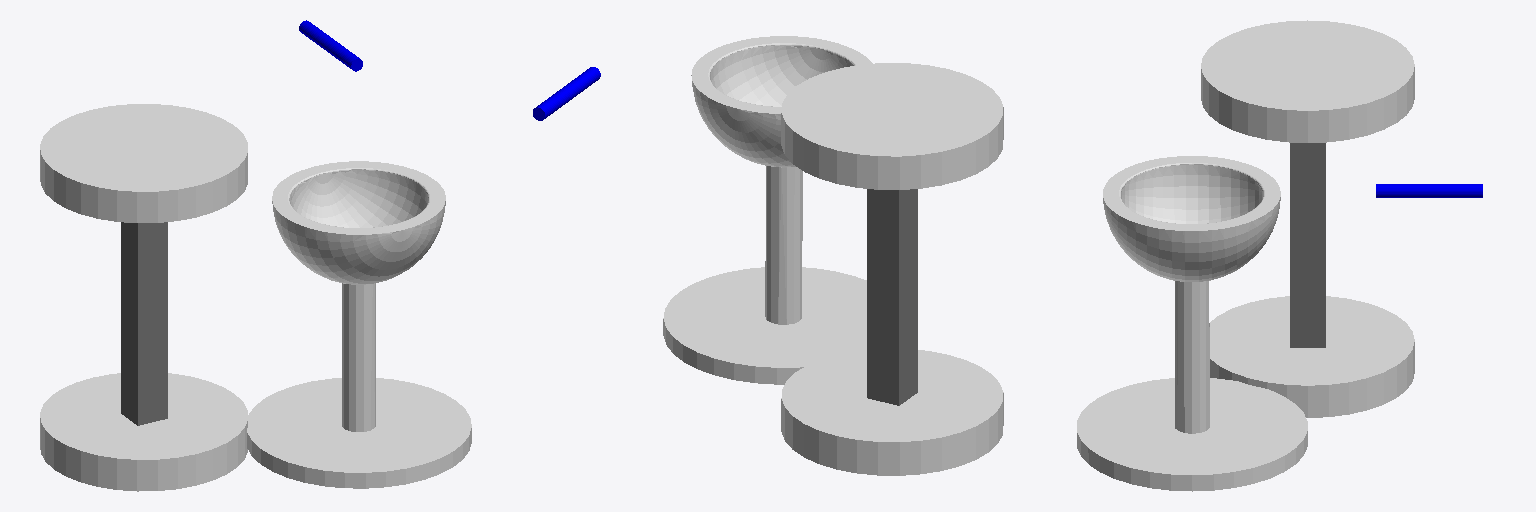
robot.urdf — ur5:
<?xml version="1.0"?>
<robot name="ur5" xmlns:controller="http://playerstage.sourceforge.net/gazebo/xmlschema/#controller" xmlns:interface="http://playerstage.sourceforge.net/gazebo/xmlschema/#interface" xmlns:sensor="http://playerstage.sourceforge.net/gazebo/xmlschema/#sensor" xmlns:xacro="http://ros.org/wiki/xacro">
  <material name="UR/Blue">
    <color rgba="0.0 0.0 0.8 1.0"/>
  </material>
  <material name="UR/Grey">
    <color rgba="0.7 0.7 0.7 1.0"/>
  </material>
  <!-- arm -->
    <!-- World link to fix basin -->
  <link name="world"/>

  <link name="base_link">
    <visual>
      <geometry>
        <mesh filename="package://ur5_description/meshes/ur5/visual/Base.dae"/>
      </geometry>
      <origin rpy="0.0 0.0 2.3561944875" xyz="0.0 0.0 0.003"/>
    </visual>

    <collision>
      <geometry>
        <mesh filename="package://ur5_description/meshes/ur5/collision/Base.dae"/>
      </geometry>

    </collision>
  <inertial>
    <mass value="4.0"/>
    <inertia ixx="1.0" ixy="0.0" ixz="0.0" iyy="1.0" iyz="0.0" izz="1.0"/>
  </inertial>
  </link>
  
<joint name="basin_to_ur5" type="fixed">
  <parent link="basin_link"/>
  <child link="base_link"/>
  <origin xyz="0 0 0.1" rpy="0 0 0"/> <!-- adjust Z height as needed -->
</joint>

  <joint name="shoulder_pan_joint" type="revolute">
    <parent link="base_link"/>
    <child link="shoulder_link"/>
    <origin rpy="0.0 0.0 0.0" xyz="0.0 0.0 0.089159"/>
    <axis xyz="0 0 1"/>
    <limit effort="10.0" lower="-3.14159265" upper="3.14159265" velocity="3.14159265"/>
    <dynamics damping="10" friction="0.1"/>
  </joint>
  <link name="shoulder_link">
    <visual>
      <geometry>
        <mesh filename="package://ur5_description/meshes/ur5/visual/Shoulder.dae"/>
      </geometry>
    </visual>
    <collision>
      <geometry>
        <mesh filename="package://ur5_description/meshes/ur5/collision/Shoulder.dae"/>
      </geometry>
      <!-- <origin rpy="0.0 0.0 0.0" xyz="0.0 0.0 -0.009159"/> -->
    </collision>
    <inertial>
      <mass value="3.7"/>
      <inertia ixx="1.0" ixy="0.0" ixz="0.0" iyy="1.0" iyz="0.0" izz="1.0"/>
      <origin rpy="0.0 0.0 0.0" xyz="0.0 0.00193 -0.02561"/>
    </inertial>
  </link>
  <joint name="shoulder_lift_joint" type="revolute">
    <parent link="shoulder_link"/>
    <child link="upper_arm_link"/>
    <origin rpy="0.0 1.570796325 0.0" xyz="0.0 0.13585 0.0"/>
    <axis xyz="0 1 0"/>
    <limit effort="10.0" lower="-3.14159265" upper="3.14159265" velocity="3.14159265"/>
    <dynamics damping="10" friction="0.1"/>
  </joint>
  <link name="upper_arm_link">
    <visual>
      <geometry>
        <mesh filename="package://ur5_description/meshes/ur5/visual/UpperArm.dae"/>
      </geometry>
      <origin rpy="0.0 0.0 0.0" xyz="0.0 0.0 0.0"/>
    </visual>
    <collision>
      <geometry>
        <mesh filename="package://ur5_description/meshes/ur5/collision/UpperArm.dae"/>
      </geometry>
      <!--       <origin rpy="0.0 0.0 0.0" xyz="0.0 0.0 0.2125"/> -->
    </collision>
    <inertial>
      <mass value="8.393"/>
      <inertia ixx="1.0" ixy="0.0" ixz="0.0" iyy="1.0" iyz="0.0" izz="1.0"/>
      <origin rpy="0.0 0.0 0.0" xyz="0.0 -0.024201 0.2125"/>
    </inertial>
  </link>
  <joint name="elbow_joint" type="revolute">
    <parent link="upper_arm_link"/>
    <child link="forearm_link"/>
    <origin rpy="0.0 0.0 0.0" xyz="0.0 -0.1197 0.425"/>
    <axis xyz="0 1 0"/>
    <limit effort="10.0" lower="-3.14159265" upper="3.14159265" velocity="3.14159265"/>
    <dynamics damping="10" friction="0.1"/>
  </joint>
  <link name="forearm_link">
    <visual>
      <geometry>
        <mesh filename="package://ur5_description/meshes/ur5/visual/Forearm.dae"/>
      </geometry>
    </visual>
    <collision>
      <geometry>
        <mesh filename="package://ur5_description/meshes/ur5/collision/Forearm.dae"/>
      </geometry>
      <!--       <origin rpy="0.0 0.0 0.0" xyz="0.0 0.0 0.196125"/> -->
    </collision>
    <inertial>
      <mass value="2.275"/>
      <origin rpy="0.0 0.0 0.0" xyz="0.0 0.0265 0.11993"/>
      <inertia ixx="1.0" ixy="0.0" ixz="0.0" iyy="1.0" iyz="0.0" izz="1.0"/>
    </inertial>
  </link>
  <joint name="wrist_1_joint" type="revolute">
    <parent link="forearm_link"/>
    <child link="wrist_1_link"/>
    <origin rpy="0.0 1.570796325 0.0" xyz="0.0 0.0 0.39225"/>
    <axis xyz="0 1 0"/>
    <limit effort="10.0" lower="-3.14159265" upper="0.7853981625" velocity="3.14159265"/>
    <dynamics damping="10" friction="0.1"/>
  </joint>
  <link name="wrist_1_link">
    <visual>
      <geometry>
        <mesh filename="package://ur5_description/meshes/ur5/visual/Wrist1.dae"/>
      </geometry>
      <origin rpy="0.0 1.570796325 0.0" xyz="0.0 0.093 0.0"/>
    </visual>
    <collision>
      <geometry>
        <mesh filename="package://ur5_description/meshes/ur5/collision/Wrist1.dae"/>
      </geometry>
      <origin rpy="0.0 1.570796325 0.0" xyz="0.0 0.093 0.0"/>
    </collision>
    <inertial>
      <mass value="1.219"/>
      <origin rpy="0.0 0.0 0.0" xyz="0.0 0.110949 0.01634"/>
      <inertia ixx="1.0" ixy="0.0" ixz="0.0" iyy="1.0" iyz="0.0" izz="1.0"/>
    </inertial>
  </link>
  <joint name="wrist_2_joint" type="revolute">
    <parent link="wrist_1_link"/>
    <child link="wrist_2_link"/>
    <origin rpy="0.0 0.0 0.0" xyz="0.0 0.093 0.0"/>
    <axis xyz="0 0 1"/>
    <limit effort="10.0" lower="-3.14159265" upper="3.14159265" velocity="3.14159265"/>
    <dynamics damping="10" friction="0.1"/>
  </joint>
  <link name="wrist_2_link">
    <visual>
      <geometry>
        <mesh filename="package://ur5_description/meshes/ur5/visual/Wrist2.dae"/>
      </geometry>
      <origin rpy="0.0 0.0 0.0" xyz="0.0 0.0 0.09465"/>
    </visual>
    <collision>
      <geometry>
        <mesh filename="package://ur5_description/meshes/ur5/collision/Wrist2.dae"/>
      </geometry>
      <origin rpy="0.0 0.0 0.0" xyz="0.0 0.0 0.09465"/>
    </collision>
    <inertial>
      <mass value="1.219"/>
      <origin rpy="0.0 0.0 0.0" xyz="0.0 0.0018 0.11099"/>
      <inertia ixx="1.0" ixy="0.0" ixz="0.0" iyy="1.0" iyz="0.0" izz="1.0"/>
    </inertial>
  </link>
  <joint name="wrist_3_joint" type="revolute">
    <parent link="wrist_2_link"/>
    <child link="wrist_3_link"/>
    <origin rpy="0.0 0.0 0.0" xyz="0.0 0.0 0.09465"/>
    <axis xyz="0 1 0"/>
    <limit effort="10.0" lower="-3.14159265" upper="3.14159265" velocity="3.14159265"/>
    <dynamics damping="10" friction="0.1"/>
  </joint>
  <link name="wrist_3_link">
    <visual>
      <geometry>
        <mesh filename="package://ur5_description/meshes/ur5/visual/Wrist3.dae"/>
      </geometry>
    </visual>
    <collision>
      <geometry>
        <mesh filename="package://ur5_description/meshes/ur5/collision/Wrist3.dae"/>
      </geometry>
    </collision>
    <inertial>
      <mass value="0.1879"/>
      <origin rpy="0.0 0.0 0.0" xyz="0.0 0.001159 0.0"/>
      <inertia ixx="1.0" ixy="0.0" ixz="0.0" iyy="1.0" iyz="0.0" izz="1.0"/>
    </inertial>
  </link>
  <joint name="ee_fixed_joint" type="fixed">
    <parent link="wrist_3_link"/>
    <child link="ee_link"/>
    <origin rpy="0.0 0.0 1.570796325" xyz="0.0 0.0823 0.0"/>
  </joint>
  <link name="ee_link"/>

  <link name="brush_link">
    <visual>
      <geometry>
        <cylinder length="0.3" radius="0.02"/>
      </geometry>
      <origin xyz="0 0 0.15" rpy="0 0 0"/> <!-- move +0.15 along Z -->
      <material name="blue">
        <color rgba="0 0 1 1"/>
      </material>
    </visual>
    <collision>
      <geometry>
        <cylinder length="0.1" radius="0.02"/>
      </geometry>
    </collision>
    <inertial>
      <mass value="0.1"/>
      <inertia ixx="0.0001" ixy="0" ixz="0" iyy="0.0001" iyz="0" izz="0.0001"/>
      <origin xyz="0 0 0.05" rpy="0 0 0"/>
    </inertial>
  </link>

    <!-- Fixed joint to attach to robot's end-effector -->
  <joint name="brush_joint" type="fixed">
    <parent link="ee_link"/> <!-- Replace ee_link with your robot's end-effector link -->
    <child link="brush_link"/>
    <origin xyz="0 0 0.0" rpy="0 1.57 0"/>
  </joint>

<!-- Bottom cylinder (basin_link2) -->
<link name="basin_link2">
  <visual>
    <geometry>
      <cylinder radius="0.3" length="0.1"/>
    </geometry>
    <origin xyz="0 0 0.05" rpy="0 0 0"/>
    <material name="White">
      <color rgba="0.9 0.9 0.9 1.0"/>
    </material>
  </visual>
  <collision>
    <geometry>
      <cylinder radius="0.3" length="0.1"/>
    </geometry>
    <origin xyz="0 0 0.05" rpy="0 0 0"/>
  </collision>
  <inertial>
    <mass value="5.0"/>
    <inertia ixx="1" iyy="1" izz="1" ixy="0" ixz="0" iyz="0"/>
  </inertial>
</link>

<!-- Stand -->
<link name="stand_link">
  <visual>
    <geometry>
      <box size="0.1 0.1 0.8"/>
    </geometry>
    <origin xyz="0 0 0.4" rpy="0 0 0"/>
    <material name="Grey">
      <color rgba="0.5 0.5 0.5 1.0"/>
    </material>
  </visual>
  <collision>
    <geometry>
      <box size="0.1 0.1 0.8"/>
    </geometry>
    <origin xyz="0 0 0.4" rpy="0 0 0"/>
  </collision>
  <inertial>
    <mass value="3.0"/>
    <inertia ixx="1" iyy="1" izz="1" ixy="0" ixz="0" iyz="0"/>
  </inertial>
</link>

<!-- Top cylinder (basin_link) -->
<link name="basin_link">
  <visual>
    <geometry>
      <cylinder radius="0.3" length="0.1"/>
    </geometry>
    <origin xyz="0 0 0.05" rpy="0 0 0"/>
    <material name="White">
      <color rgba="0.9 0.9 0.9 1.0"/>
    </material>
  </visual>
  <collision>
    <geometry>
      <cylinder radius="0.3" length="0.1"/>
    </geometry>
    <origin xyz="0 0 0.05" rpy="0 0 0"/>
  </collision>
  <inertial>
    <mass value="5.0"/>
    <inertia ixx="1" iyy="1" izz="1" ixy="0" ixz="0" iyz="0"/>
  </inertial>
</link>


<gazebo reference="base_link">
    <material>Gazebo/Orange</material>
</gazebo>

<gazebo reference="shoulder_link">
    <material>Gazebo/Orange</material>
</gazebo>

<gazebo reference="upper_arm_link">
    <material>Gazebo/Orange</material>
</gazebo>

<gazebo reference="forearm_link">
    <material>Gazebo/Orange</material>
</gazebo>

<gazebo reference="wrist_1_link">
    <material>Gazebo/Red</material>
</gazebo>

<gazebo reference="wrist_2_link">
    <material>Gazebo/Orange</material>
</gazebo>

<gazebo reference="wrist_3_link">
    <material>Gazebo/Orange</material>
</gazebo>

<gazebo reference="basin_link2">
    <material>Gazebo/Black</material>
</gazebo>
<gazebo reference="stand_link">
    <material>Gazebo/Black</material>
</gazebo>
<gazebo reference="basin_link">
    <material>Gazebo/Black</material>
</gazebo>
<gazebo reference="washbasin_link">
    <material>Gazebo/Red</material>
</gazebo>
<gazebo reference="brush_link">
    <material>Gazebo/Blue</material>
</gazebo>

<!-- Joints -->

<!-- World → bottom cylinder -->
<joint name="world_to_basin2" type="fixed">
  <parent link="world"/>
  <child link="basin_link2"/>
  <origin xyz="0 0 0.05" rpy="0 0 0"/>
</joint>

<!-- Bottom cylinder → stand -->
<joint name="basin2_to_stand" type="fixed">
  <parent link="basin_link2"/>
  <child link="stand_link"/>
  <origin xyz="0 0 0.05" rpy="0 0 0"/>
</joint>

<!-- Stand → top cylinder -->
<joint name="stand_to_basin" type="fixed">
  <parent link="stand_link"/>
  <child link="basin_link"/>
  <origin xyz="0 0 0.8" rpy="0 0 0"/> <!-- top cylinder sits on stand -->
</joint>


<link name="washbasin_link">
  <visual>
    <geometry>
      <mesh filename="package://ur5_description/meshes/ur5/visual/basin.STL" scale="0.001 0.001 0.001"/>
    </geometry>
    <origin xyz="0.2 0 0.8" rpy="-3.14 0 0"/> <!-- half height above ground -->
    <material name="White">
      <color rgba="0.9 0.9 0.9 1.0"/>
    </material>
  </visual>
  <collision>
    <geometry>
      <cylinder radius="0.3" length="0.1"/> <!-- simple collision -->
    </geometry>
    <origin xyz="0 0 0.05" rpy="0 0 0"/>
  </collision>
  <inertial>
    <mass value="5.0"/>
    <inertia ixx="0.1" iyy="0.1" izz="0.1" ixy="0" ixz="0" iyz="0"/>
    <origin xyz="0 0 0.05" rpy="0 0 0"/>
  </inertial>
</link>

<joint name="world_to_washbasin" type="fixed">
  <parent link="world"/>
  <child link="washbasin_link"/>
  <origin xyz="0 0 0.05" rpy="0 0 0"/>
</joint>

<!--  Addign Controllers -->

<ros2_control name="GazeboSystem" type="system">
  <hardware>
    <plugin>gazebo_ros2_control/GazeboSystem</plugin>
  </hardware>

  <!-- Shoulder Pan -->
  <joint name="shoulder_pan_joint">
      <param name="initial_position">-0.323</param>
      <command_interface name="effort"/>
      <command_interface name="velocity"/>
      <command_interface name="position"/>
      <state_interface name="position"/>
      <state_interface name="velocity"/>
      <state_interface name="effort"/>
  </joint>
  </ros2_control>

<ros2_control name="GazeboSystem" type="system">
  <hardware>
    <plugin>gazebo_ros2_control/GazeboSystem</plugin>
  </hardware>
  <!-- Shoulder Lift -->
  <joint name="shoulder_lift_joint">
      <param name="initial_position">-0.425</param>
      <command_interface name="effort"/>
      <command_interface name="velocity"/>
      <command_interface name="position"/>
      <state_interface name="position"/>
      <state_interface name="velocity"/>
      <state_interface name="effort"/>
  </joint>
</ros2_control>
<ros2_control name="GazeboSystem" type="system">
  <hardware>
    <plugin>gazebo_ros2_control/GazeboSystem</plugin>
  </hardware>
  <!-- Elbow -->
  <joint name="elbow_joint">
      <param name="initial_position">0.357</param>
      <command_interface name="effort"/>
      <command_interface name="velocity"/>
      <command_interface name="position"/>
      <state_interface name="position"/>
      <state_interface name="velocity"/>
      <state_interface name="effort"/>
  </joint>
  </ros2_control>

<ros2_control name="GazeboSystem" type="system">
  <hardware>
    <plugin>gazebo_ros2_control/GazeboSystem</plugin>
  </hardware>
  <!-- Wrist 1 -->
  <joint name="wrist_1_joint">
      <param name="initial_position">-0.849</param>
      <command_interface name="effort"/>
      <command_interface name="velocity"/>
      <command_interface name="position"/>
      <state_interface name="position"/>
      <state_interface name="velocity"/>
      <state_interface name="effort"/>
  </joint>
  </ros2_control>

<ros2_control name="GazeboSystem" type="system">
  <hardware>
    <plugin>gazebo_ros2_control/GazeboSystem</plugin>
  </hardware>
  <!-- Wrist 2 -->
  <joint name="wrist_2_joint">
      <param name="initial_position">-1.817</param>
      <command_interface name="effort"/>
      <command_interface name="velocity"/>
      <command_interface name="position"/>
      <state_interface name="position"/>
      <state_interface name="velocity"/>
      <state_interface name="effort"/>
  </joint>
  </ros2_control>

<ros2_control name="GazeboSystem" type="system">
  <hardware>
    <plugin>gazebo_ros2_control/GazeboSystem</plugin>
  </hardware>
  <!-- Wrist 3 -->
  <joint name="wrist_3_joint">
      <param name="initial_position">-0.493</param>
      <command_interface name="effort"/>
      <command_interface name="velocity"/>
      <command_interface name="position"/>
      <state_interface name="position"/>
      <state_interface name="velocity"/>
      <state_interface name="effort"/>
  </joint>

</ros2_control>

<gazebo>
  <plugin name="gazebo_ros2_control" filename="libgazebo_ros2_control.so">
    <robot_param>robot_description</robot_param>
    <robot_param_node>robot_state_publisher</robot_param_node>
    <parameters>
      [local-path]/UR5_robot/src/robotic_arms_control/robotic_arms_control/config/ur5_itc_controller.yaml
    </parameters>
  </plugin>
</gazebo>


</robot>

--- Render facts (derived) ---
3 views of the same robot in one strip: view 1: azimuth 30°, elevation 25°; view 2: azimuth 150°, elevation 25°; view 3: azimuth 270°, elevation 25° (orthographic).
Model ur5 with 14 links and 13 joints (6 revolute, 7 fixed), rooted at world, posed every joint at zero.
Visible links, largest first — view 1: washbasin_link, basin_link, basin_link2, stand_link, brush_link; view 2: washbasin_link, basin_link, basin_link2, stand_link, brush_link; view 3: washbasin_link, basin_link, basin_link2, stand_link, brush_link.
Boxes of the visible links, <box> form: washbasin_link: <box>247,161,471,488</box>; basin_link: <box>40,104,247,222</box>; basin_link2: <box>40,373,247,491</box>; stand_link: <box>121,222,167,425</box>; brush_link: <box>299,20,362,71</box>; washbasin_link: <box>663,36,872,384</box>; basin_link: <box>781,63,1003,189</box>; basin_link2: <box>781,350,1003,475</box>; stand_link: <box>867,189,917,405</box>; brush_link: <box>533,67,600,120</box>; washbasin_link: <box>1077,156,1307,491</box>; basin_link: <box>1201,20,1414,142</box>; basin_link2: <box>1210,296,1414,417</box>; stand_link: <box>1290,143,1325,347</box>; brush_link: <box>1376,184,1482,197</box>.
Size in the robot's own frame: 1.15 by 1.14 by 0.9645 metres.
1 mesh visuals loaded from 8 distinct referenced files (1 binary STL); not drawn: 7 (reference not matched to a file when rendering).